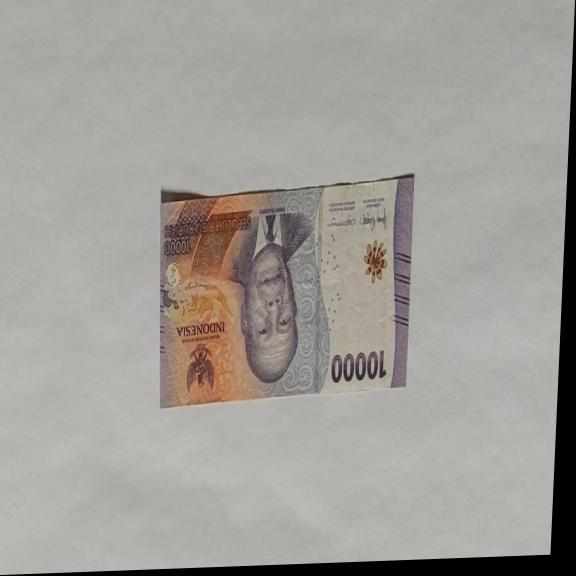Kertas: (151, 172, 415, 408), (330, 348, 388, 385)
